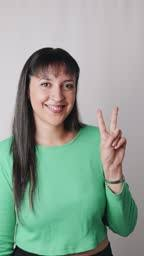peace_sign: (95, 103, 128, 170)
